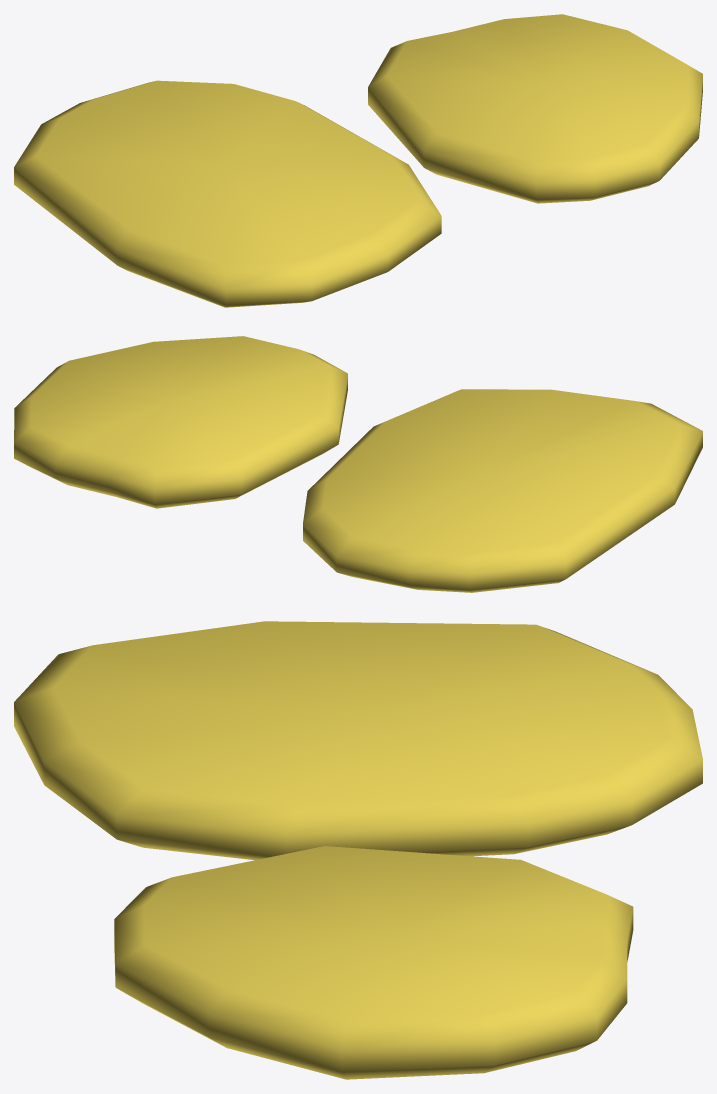
The model's file is Bstone1.fbx.
3 views of the same model, one above another, from view 1: azimuth 30°, elevation 25°; view 2: azimuth 150°, elevation 25°; view 3: azimuth 270°, elevation 25° (orthographic). The views are drawn at different scales.
Parts seen in each view (by area): view 1: 1_set_stones_lowpoly.001; view 2: 1_set_stones_lowpoly.001; view 3: 1_set_stones_lowpoly.001.
Part boxes in pixels (x1,y1,x2,y2): 1_set_stones_lowpoly.001: (14,14,702,307); 1_set_stones_lowpoly.001: (14,336,702,592); 1_set_stones_lowpoly.001: (14,621,702,1079).
Size of the model in its own units: 221 by 14.26 by 153.
